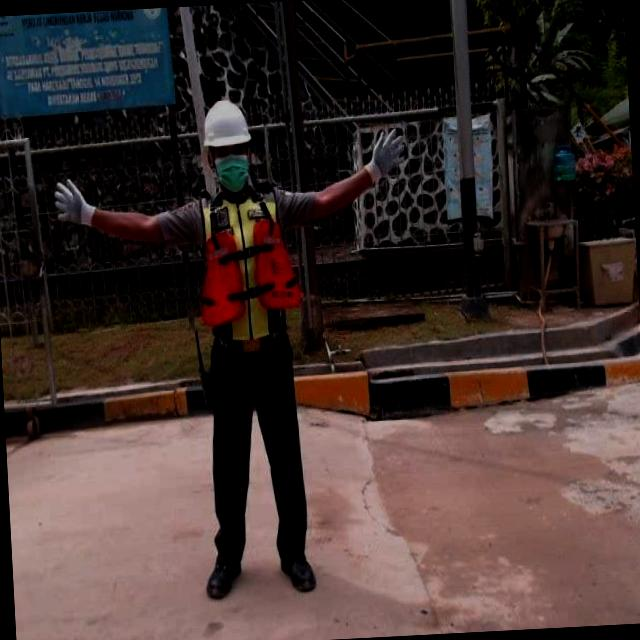vest: (194, 184, 305, 351)
